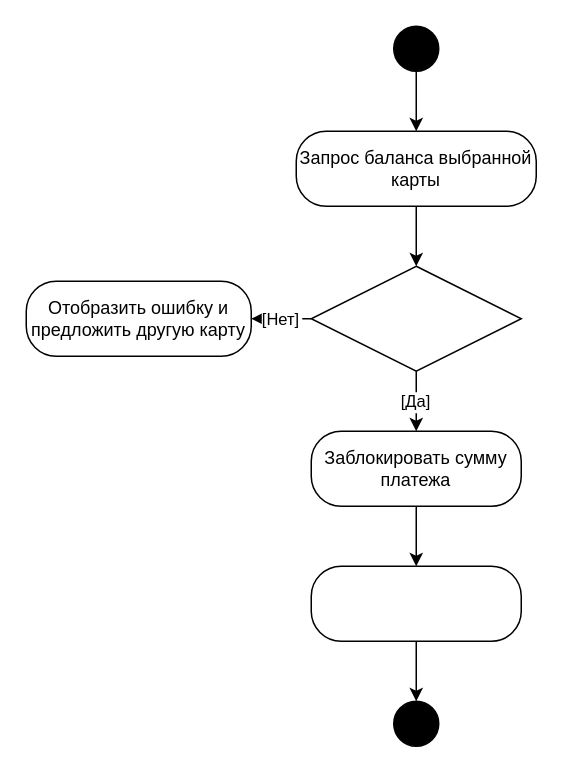
This 563x773 diagram has some shape labels left out. The centre of each missing label's shape, as x and y in pixels:
Баланс >= Сумме?: (x=415, y=318)
Списать средства и выдать чек: (x=415, y=603)
